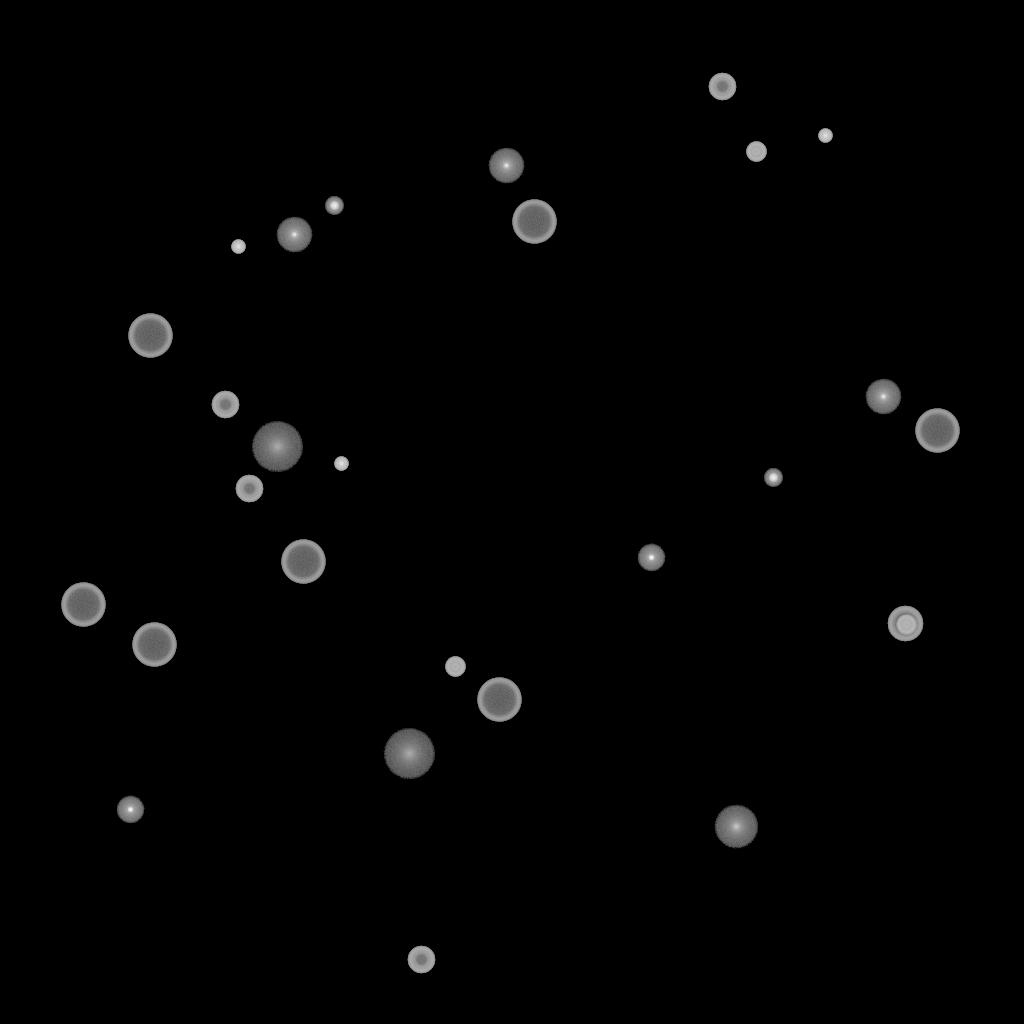depth:-10: (637, 544, 665, 572), (116, 796, 144, 824)
depth:-20: (764, 469, 782, 487), (325, 197, 343, 215)
depth:-30: (818, 129, 832, 143), (334, 457, 348, 471), (231, 240, 245, 254)
depth:-40: (896, 615, 916, 635), (445, 657, 465, 677), (746, 142, 766, 162)
depth:-50: (708, 73, 736, 101), (407, 946, 435, 974), (211, 391, 239, 419), (235, 475, 263, 503)
depth:-60: (887, 606, 923, 642)
depth:-70: (512, 200, 556, 244), (128, 314, 172, 358), (281, 540, 325, 584), (477, 678, 521, 722), (61, 583, 105, 627), (132, 623, 176, 667), (915, 409, 959, 453)
depth:0: (276, 217, 312, 253), (865, 379, 901, 415), (488, 148, 524, 184)
depth:10: (714, 805, 758, 849)
depth:20: (383, 729, 435, 779), (251, 422, 303, 472)
